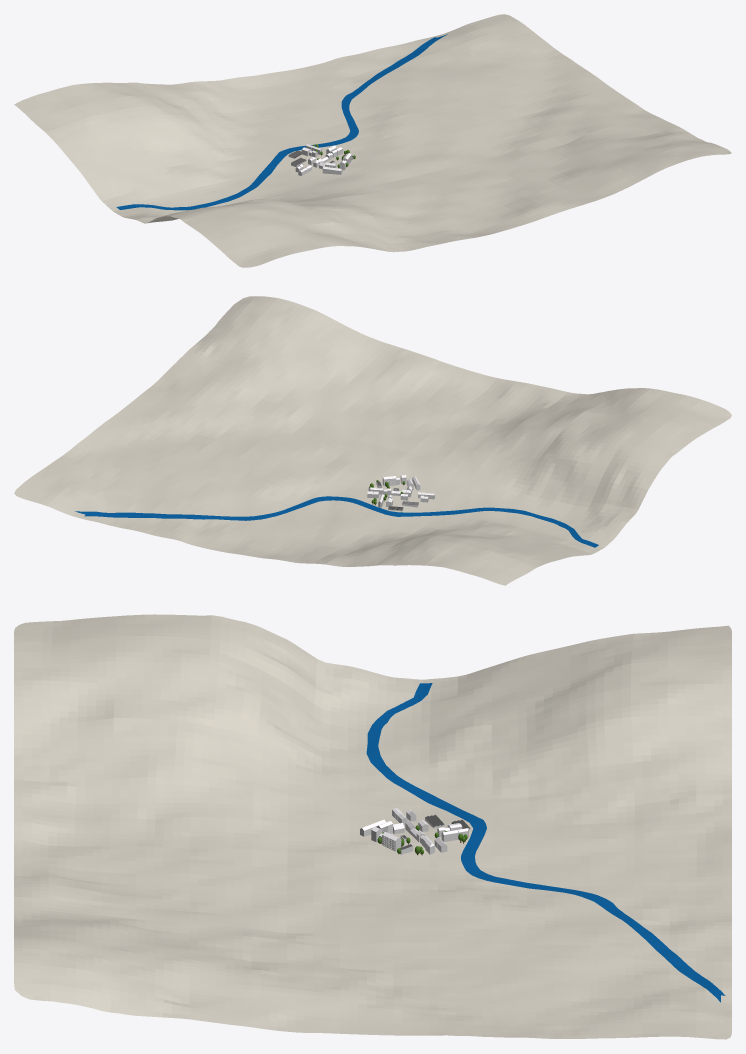
Rendered from Arrenberg-Blender_06.gltf.
3 views of the same model, one above another, from view 1: azimuth 30°, elevation 25°; view 2: azimuth 150°, elevation 25°; view 3: azimuth 270°, elevation 25° (orthographic). The views are drawn at different scales.
Parts seen in each view (by area): view 1: Terrrain, map_3.osm_water; view 2: Terrrain, map_3.osm_water; view 3: Terrrain, map_3.osm_water.
Part boxes in pixels (x1,y1,x2,y2): Terrrain: [14, 14, 731, 267]; map_3.osm_water: [116, 34, 447, 210]; Terrrain: [14, 296, 731, 585]; map_3.osm_water: [75, 496, 598, 547]; Terrrain: [14, 614, 731, 1039]; map_3.osm_water: [366, 683, 725, 1002].
Size of the model in its own units: 1591 by 149 by 1299.
